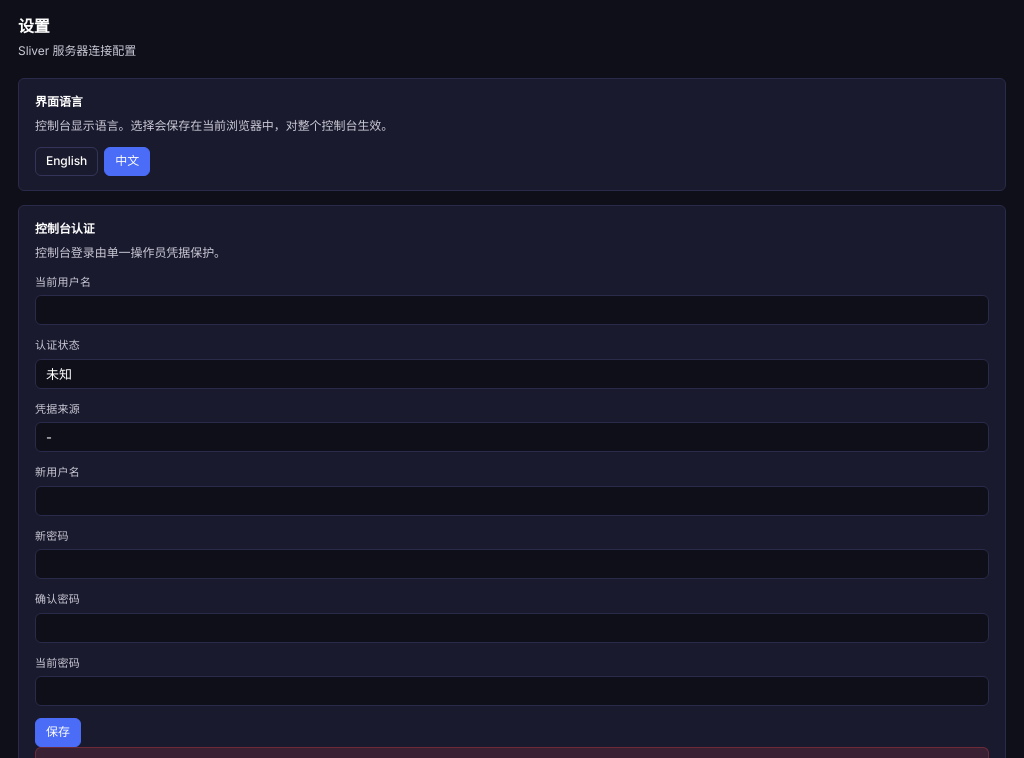
Test: SettingsPage language option › switches back to English
Expected: the text "界面语言" is shown, [35,94,83,109]
Click the button "English" at (67, 161), box [35,147,98,176]
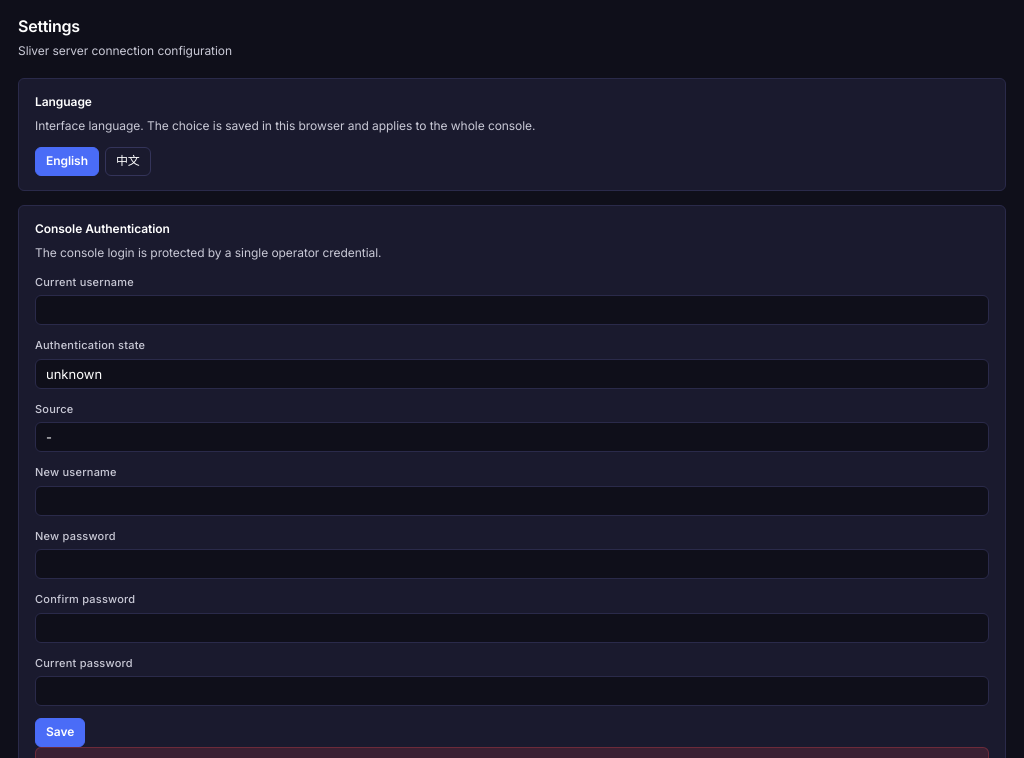
Expected: the text "Language" is shown, [35,94,92,109]
